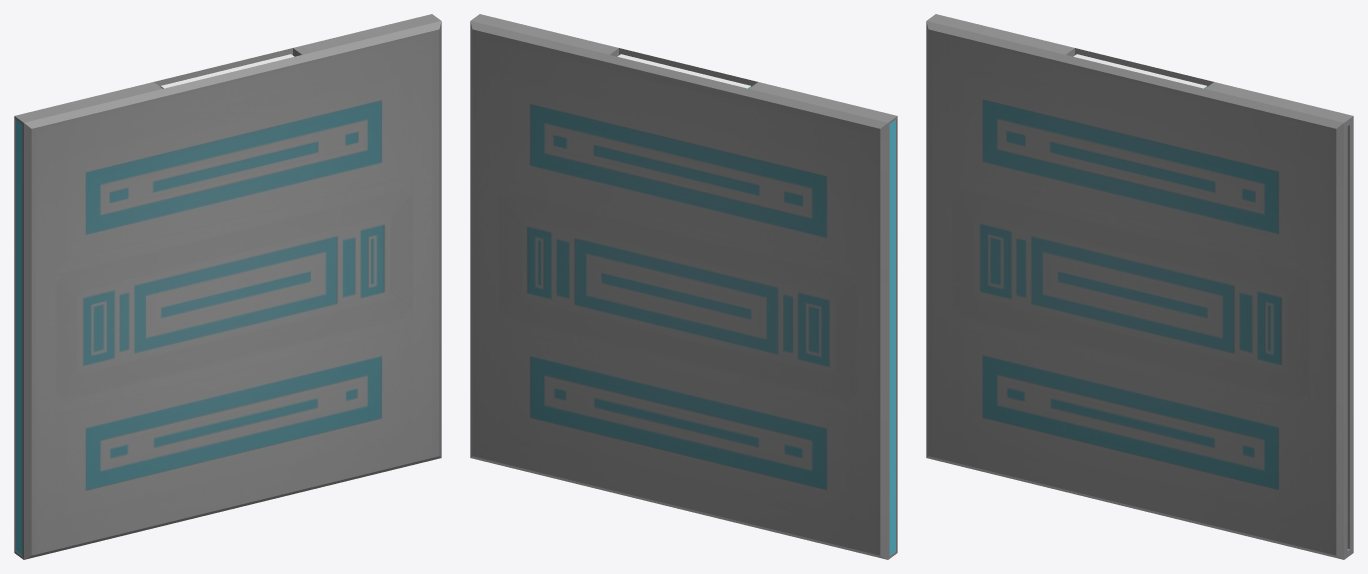
The model's file is Wall Tile Fixed.fbx.
3 renders of one model, left to right at view 1: azimuth 30°, elevation 25°; view 2: azimuth 150°, elevation 25°; view 3: azimuth 330°, elevation 25°, orthographic.
Parts seen in each view (by area): view 1: Plane; view 2: Plane; view 3: Plane.
Boxes of the visible parts, <box> form: Plane: <box>14,14,441,559</box>; Plane: <box>470,14,897,559</box>; Plane: <box>926,14,1353,559</box>.
Bounding box in the file's own units: 500 × 500 × 31.42.
3 materials, 1 textured.
